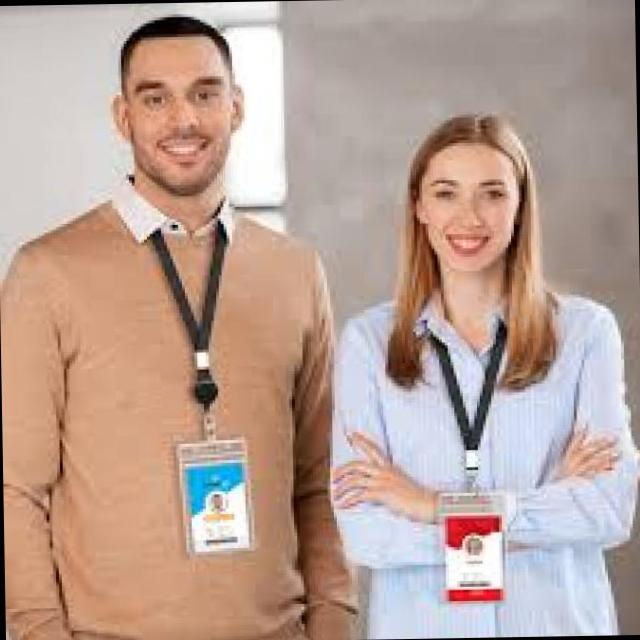id_card: (150, 204, 262, 551), (417, 306, 522, 606)
